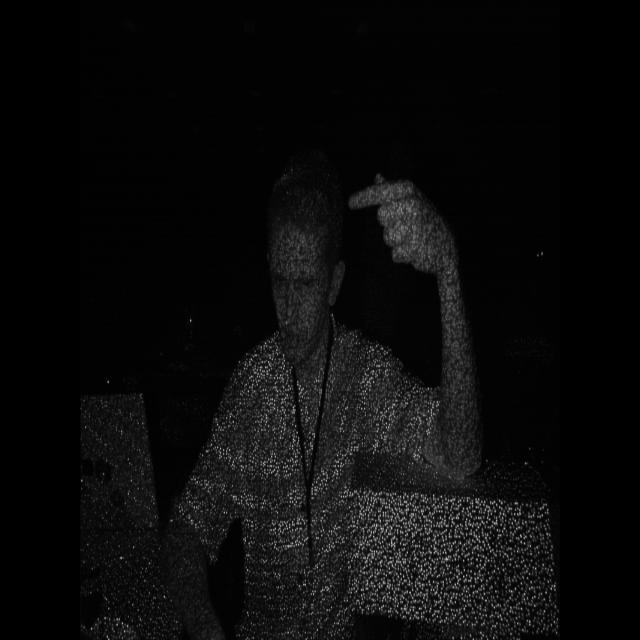G: (344, 162, 462, 280)
